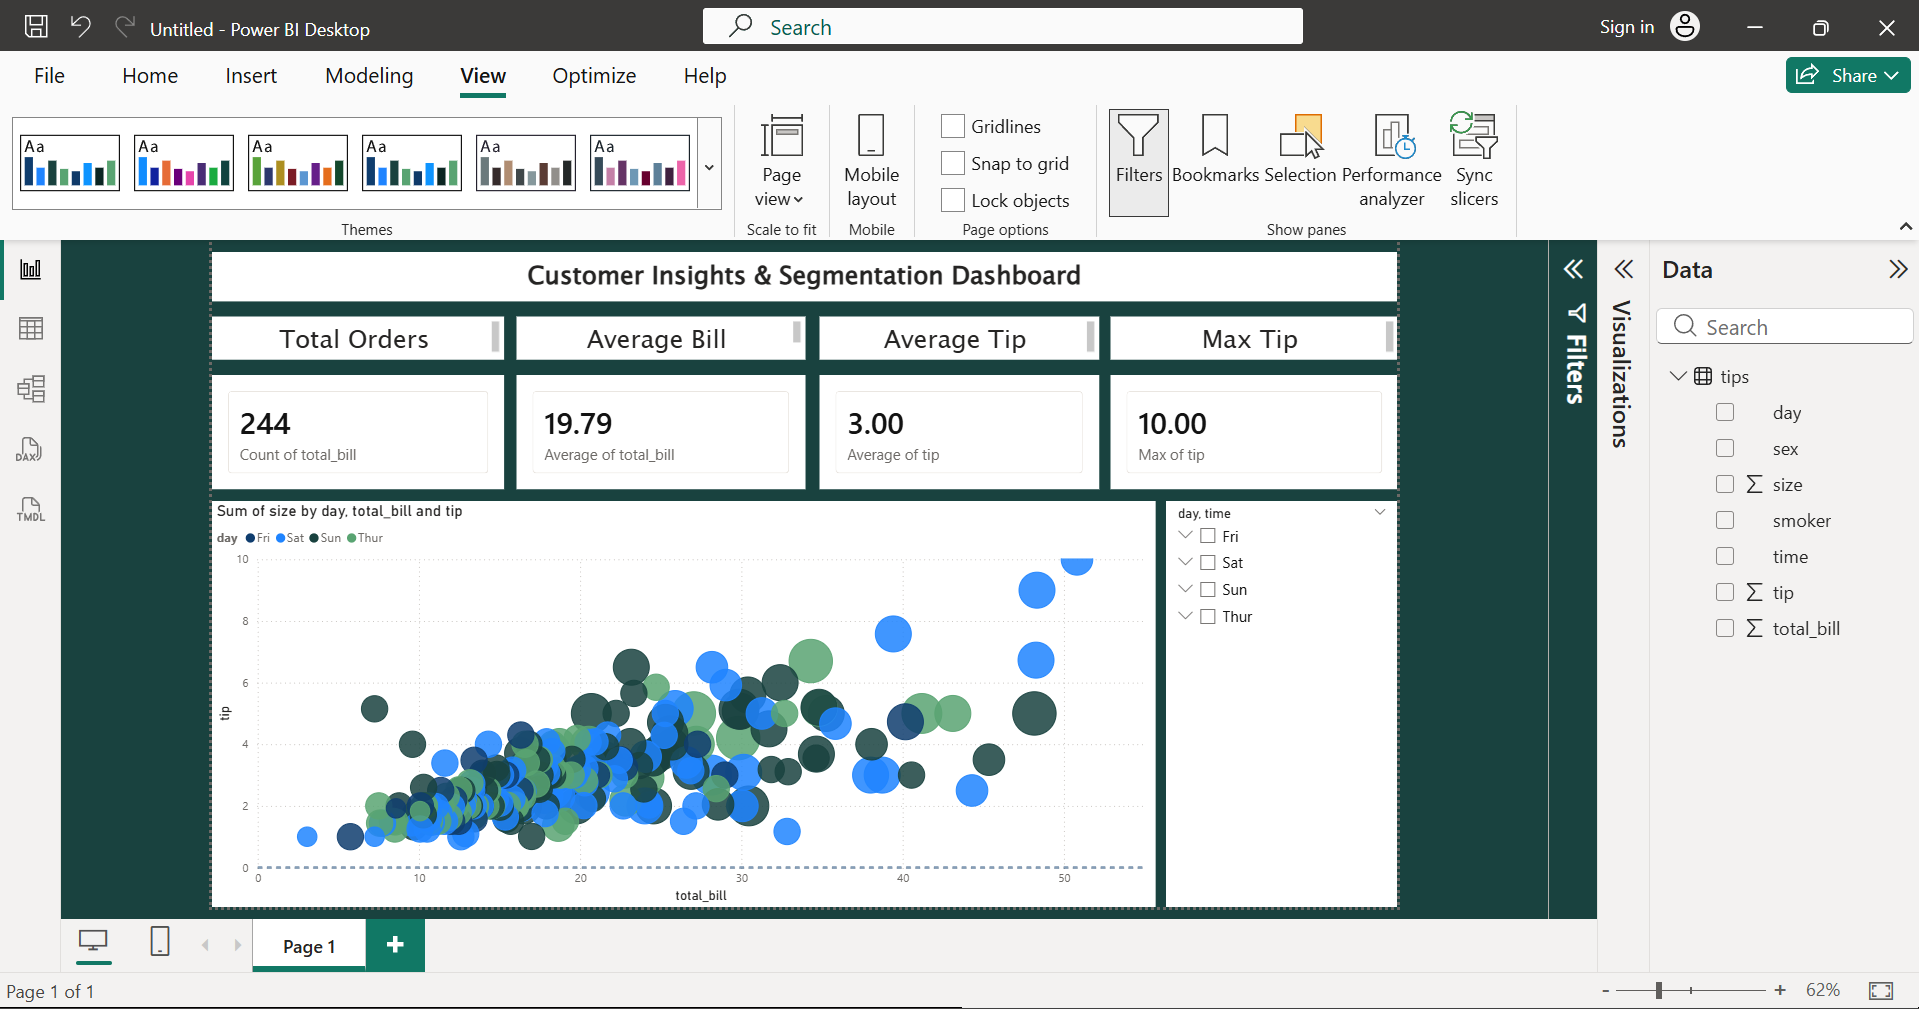

The page's visual inventory and layout, read from the dashboard file:
{"tool":"powerbi","page":{"name":"Page 1","canvas":[1280,720],"ordinal":0},"visuals":[{"type":"cardVisual","fields":{"Data":["CountNonNull(tips.total_bill)"]},"box":[0,145,315,123.3],"z":0},{"type":"textbox","box":[0,83.3,315,46.7],"z":1000},{"type":"cardVisual","fields":{"Data":["Avg(tips.total_bill)"]},"box":[328.3,145,311.7,123.3],"z":2000},{"type":"textbox","box":[328.3,83.3,311.7,46.7],"z":3000},{"type":"textbox","box":[655,83.3,301.7,46.7],"z":4000},{"type":"cardVisual","fields":{"Data":["Avg(tips.tip)"]},"box":[655,145,301.7,123.3],"z":5000},{"type":"textbox","box":[970,83.3,310,46.7],"z":6000},{"type":"cardVisual","fields":{"Data":["Max(tips.tip)"]},"box":[970,145,310,123.3],"z":7000},{"type":"textbox","box":[0,13,1279.2,53.4],"z":8000},{"type":"scatterChart","fields":{"X":["tips.total_bill"],"Y":["tips.tip"],"Size":["Sum(tips.size)"],"Series":["tips.day"]},"box":[0,281.7,1018.3,438.3],"z":9000},{"type":"slicer","fields":{"Values":["tips.day","tips.time"]},"box":[1030,281.7,250,438.3],"z":10000}]}

Visuals, with their boxes on the page's 1280x720 design canvas (x1, y1, x2, y2). These are canvas units, not pixel positions in the 1919x1009 screenshot, which may show the page scaled, cropped or inside an application window:
cardVisual - CountNonNull(tips.total_bill): x1=0 y1=145 x2=315 y2=268
textbox: x1=0 y1=83 x2=315 y2=130
cardVisual - Avg(tips.total_bill): x1=328 y1=145 x2=640 y2=268
textbox: x1=328 y1=83 x2=640 y2=130
textbox: x1=655 y1=83 x2=957 y2=130
cardVisual - Avg(tips.tip): x1=655 y1=145 x2=957 y2=268
textbox: x1=970 y1=83 x2=1280 y2=130
cardVisual - Max(tips.tip): x1=970 y1=145 x2=1280 y2=268
textbox: x1=0 y1=13 x2=1279 y2=66
scatterChart - tips.total_bill x tips.tip: x1=0 y1=282 x2=1018 y2=720
slicer - tips.day x tips.time: x1=1030 y1=282 x2=1280 y2=720
